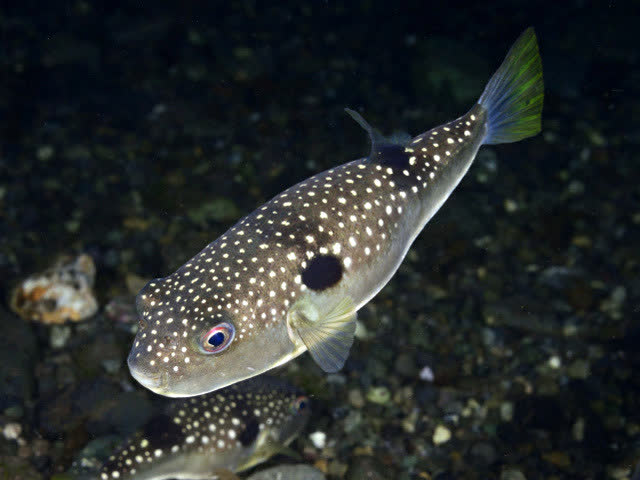hugu: (118, 3, 538, 424)
